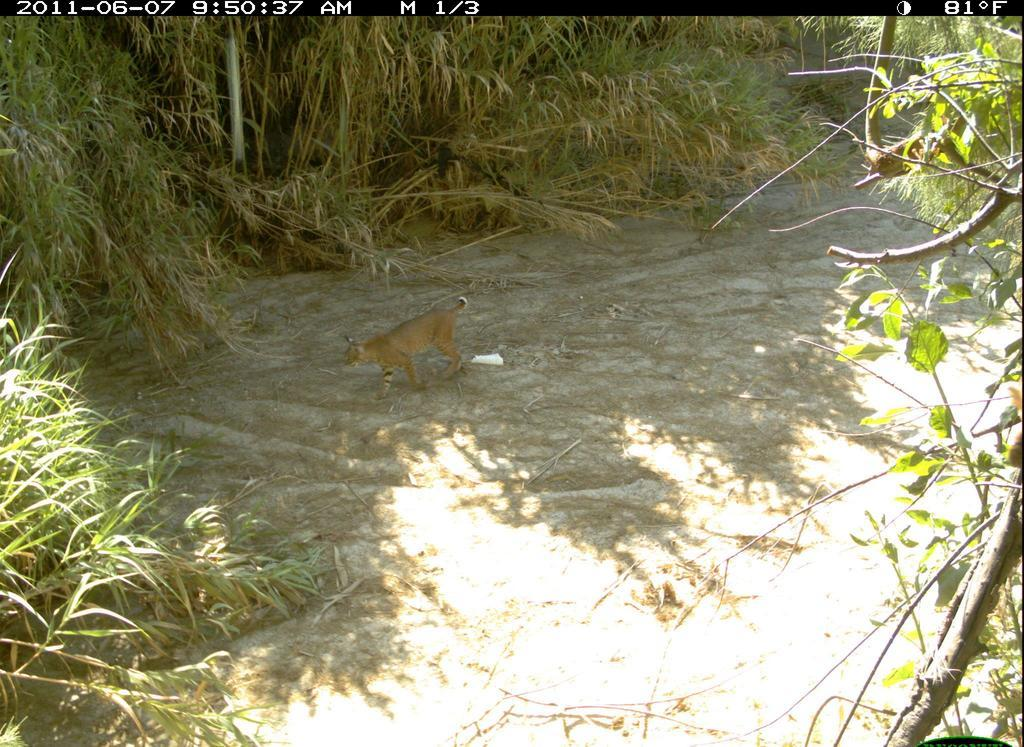bobcat: (338, 291, 486, 406)
